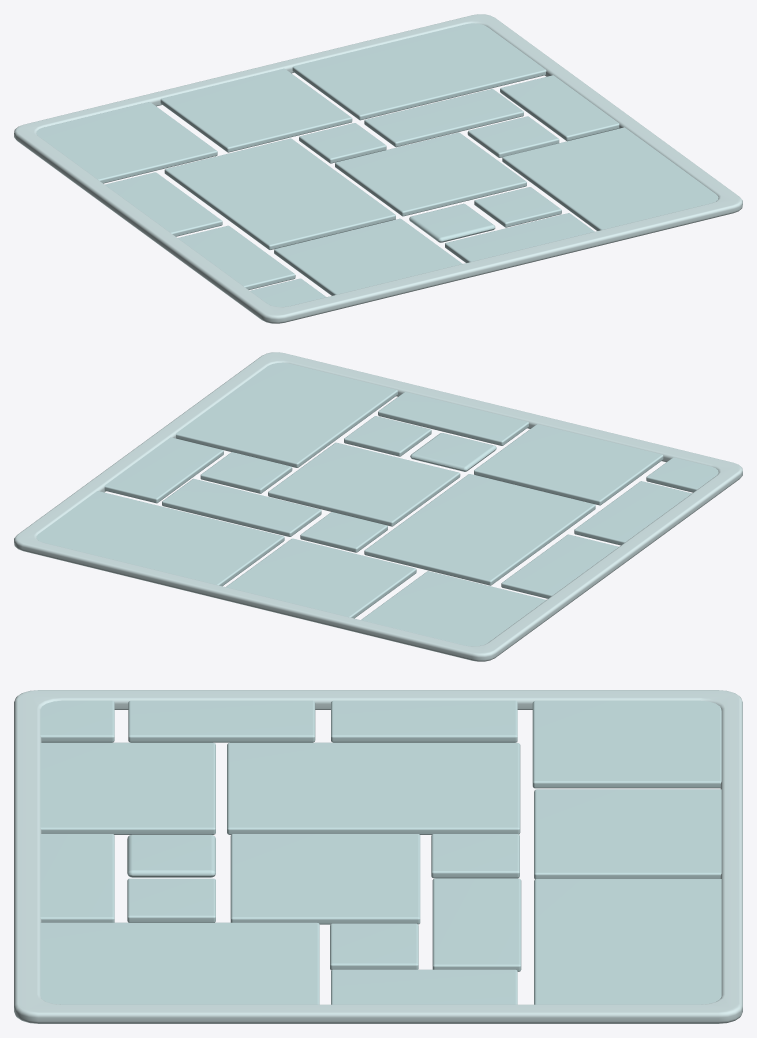
The model's file is squres board.fbx.
The picture shows the model from 3 angles, top to bottom: view 1: azimuth 30°, elevation 25°; view 2: azimuth 150°, elevation 25°; view 3: azimuth 270°, elevation 25°; orthographic projection. The views are drawn at different scales.
Visible parts, largest first — view 1: square_s, pCube1; view 2: square_s, pCube1; view 3: square_s, pCube1.
Part boxes in pixels (x1,y1,x2,y2): square_s: (36, 23, 718, 306); pCube1: (14, 14, 742, 323); square_s: (36, 362, 718, 646); pCube1: (14, 352, 742, 661); square_s: (40, 700, 721, 1004); pCube1: (14, 690, 742, 1023).
Size of the model in its own units: 1167 by 18.77 by 1106.
